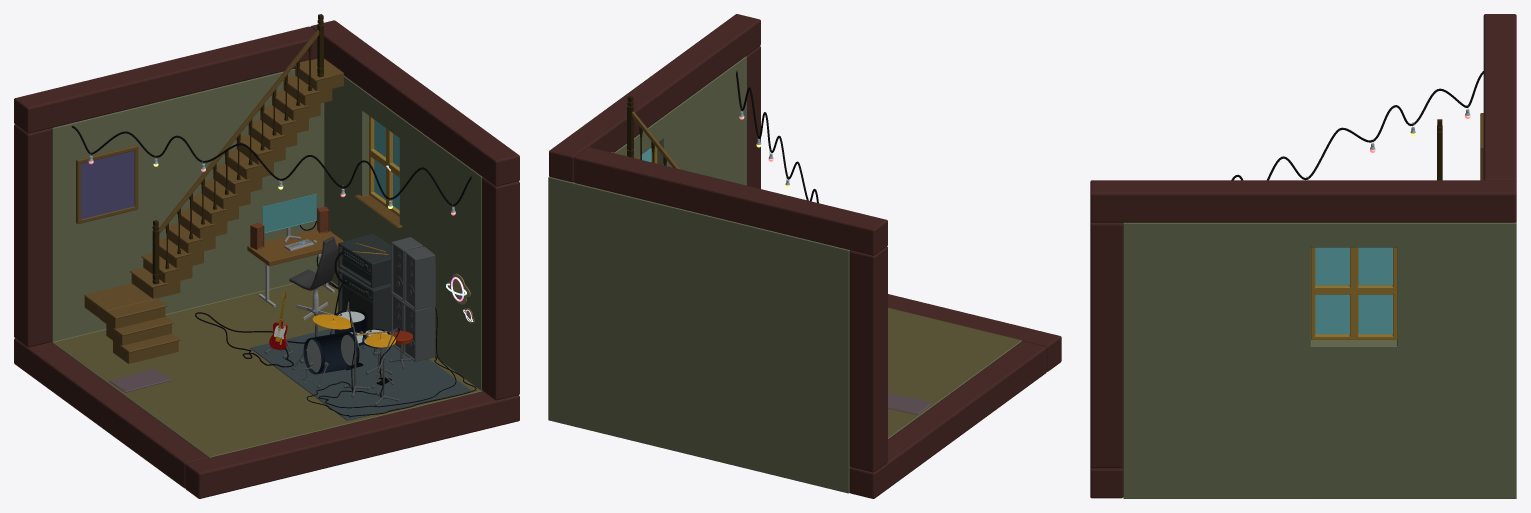
File: isometric_room_studio.glb
3 views of the same model, side by side, from view 1: azimuth 30°, elevation 25°; view 2: azimuth 150°, elevation 25°; view 3: azimuth 270°, elevation 25° (orthographic). The views are drawn at different scales.
Visible parts, largest first — view 1: walls.008_5, walls.007_0, walls.001_52, Cube.125_16, rug.001_7, Circle.094_37, disk vinil.001_47, Cube.126_17, Cube.217_36, Cube.216_35, BezierCurve.066_38, snare.001_9 (+13 smaller); view 2: walls.007_0, walls.008_5, walls.001_52, BezierCurve.071_39, rug2.001_6, Cube.126_17; view 3: walls.007_0, walls.008_5, glass.001_2, window frame.001_1, BezierCurve.071_39.
Boxes of the visible parts, box(x1,y1,x2,y2) form: walls.008_5: box(14, 20, 519, 498); walls.007_0: box(51, 69, 482, 457); walls.001_52: box(54, 281, 480, 456); Cube.125_16: box(84, 30, 343, 363); rug.001_7: box(250, 328, 471, 420); Circle.094_37: box(391, 237, 435, 361); disk vinil.001_47: box(81, 151, 134, 218); Cube.126_17: box(152, 14, 323, 284); Cube.217_36: box(338, 233, 390, 287); Cube.216_35: box(338, 269, 391, 334); BezierCurve.066_38: box(195, 220, 476, 417); snare.001_9: box(303, 309, 390, 374); walls.007_0: box(548, 56, 1021, 493); walls.008_5: box(549, 14, 1061, 498); walls.001_52: box(888, 308, 1020, 437); BezierCurve.071_39: box(736, 70, 818, 202); rug2.001_6: box(888, 393, 931, 414); Cube.126_17: box(627, 95, 666, 165); walls.007_0: box(1123, 222, 1516, 498); walls.008_5: box(1090, 14, 1516, 498); glass.001_2: box(1315, 247, 1392, 334); window frame.001_1: box(1311, 247, 1397, 339); BezierCurve.071_39: box(1231, 71, 1483, 180).
Size of the model in its own units: 6.44 by 5.87 by 6.44.
